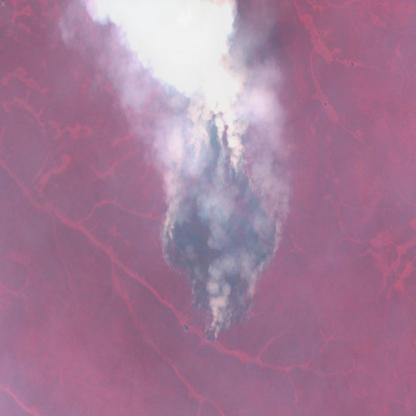fire: (158, 90, 283, 347)
